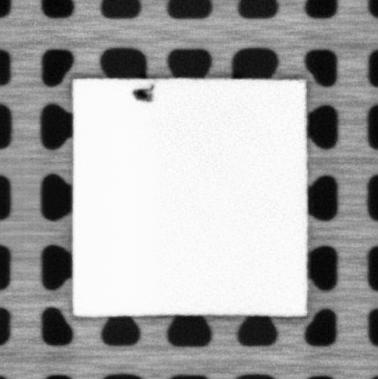DIE_INK: (132, 82, 157, 103)
